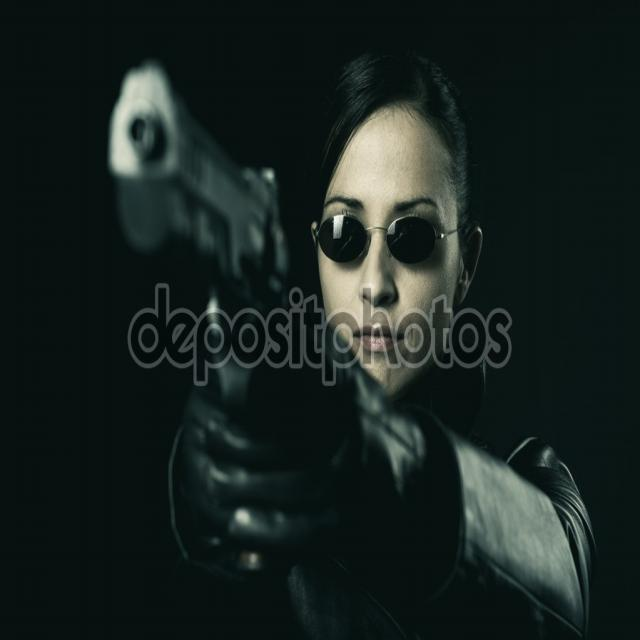gun: (103, 43, 311, 414)
